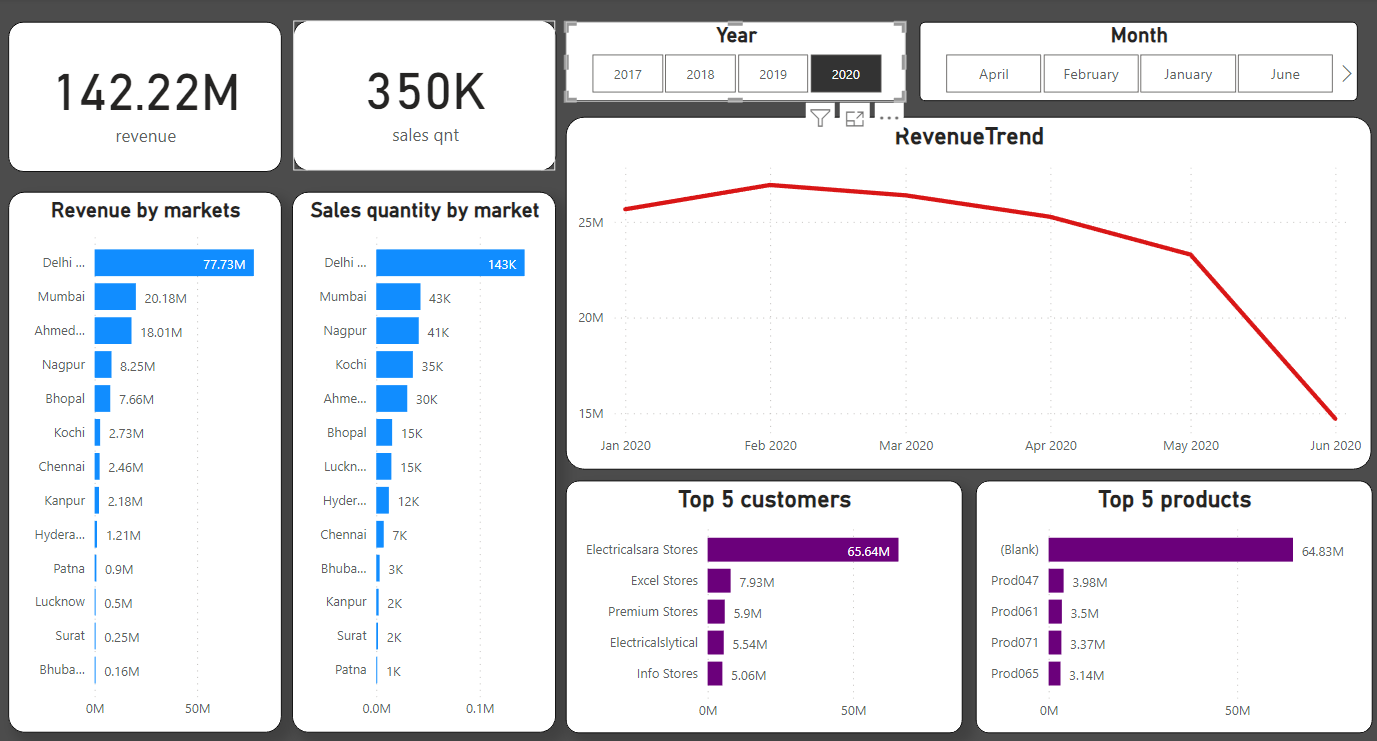

The page's visual inventory and layout, read from the dashboard file:
{"tool":"powerbi","page":{"name":"Page 1","canvas":[1286,692],"ordinal":0},"visuals":[{"type":"card","fields":{"Values":["basemeasures.revenue"]},"box":[12.9,10.6,251.4,129.2],"z":0},{"type":"card","fields":{"Values":["basemeasures.sales qnt"]},"box":[290.2,0,192.7,159.8],"z":1000},{"type":"barChart","title":"Revenue by markets","fields":{"Y":["basemeasures.revenue"],"Category":["sales markets.markets_name"]},"box":[10.6,219.7,253.8,461.7],"z":2000},{"type":"barChart","title":"Sales quantity by market","fields":{"Y":["basemeasures.sales qnt"],"Category":["sales markets.markets_name"]},"box":[264.3,219.7,244.4,461.7],"z":3000},{"type":"slicer","fields":{"Values":["sales date.cy_date"]},"box":[844.7,30.5,419.4,65.8],"z":4000},{"type":"barChart","title":"Top 5 customers","fields":{"Category":["sales customers.custmer_name"],"Y":["basemeasures.revenue"]},"box":[502.8,447.6,367.7,233.8],"z":5000},{"type":"slicer","title":"Year","fields":{"Values":["sales date.year"]},"box":[548.7,30.5,300.8,59.9],"z":6000},{"type":"barChart","title":"Top 5 products","fields":{"Y":["basemeasures.revenue"],"Category":["sales products.product_code"]},"box":[876.5,447.6,367.7,233.8],"z":7000},{"type":"lineChart","title":"RevenueTrend","fields":{"Y":["basemeasures.revenue"],"Category":["sales date.cy_date.Variation.Date Hierarchy.Year","sales date.cy_date.Variation.Date Hierarchy.Quarter","sales date.cy_date.Variation.Date Hierarchy.Month","sales date.cy_date.Variation.Date Hierarchy.Day"]},"box":[615.6,139.8,599.2,245.5],"z":8000}]}

Visuals, with their boxes in screenshot pixels (x1, y1, x2, y2), scaled from the page's 1286x692 canvas onto the 1377x741 screenshot:
card - basemeasures.revenue: detection(14, 11, 283, 150)
card - basemeasures.sales qnt: detection(311, 0, 517, 171)
"Revenue by markets" barChart: detection(11, 235, 283, 730)
"Sales quantity by market" barChart: detection(283, 235, 545, 730)
slicer - sales date.cy_date: detection(904, 33, 1354, 103)
"Top 5 customers" barChart: detection(538, 479, 932, 730)
"Year" slicer: detection(588, 33, 910, 97)
"Top 5 products" barChart: detection(939, 479, 1332, 730)
"RevenueTrend" lineChart: detection(659, 150, 1301, 413)
